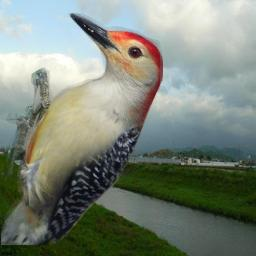Woodpecker: (1, 13, 163, 245)
